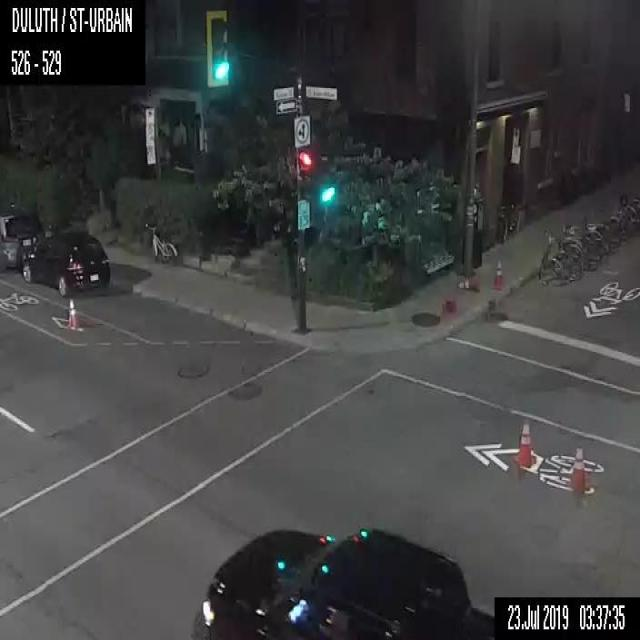construction: (515, 424, 532, 465), (570, 448, 587, 488), (66, 300, 78, 328), (458, 274, 478, 290), (492, 260, 503, 288)
vehicle: (191, 524, 494, 639), (21, 232, 110, 297), (0, 211, 45, 273)
